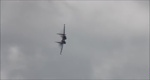maybay_muctieu: (55, 21, 68, 55)
